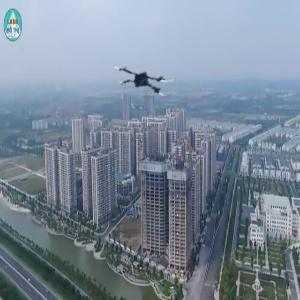drone: (115, 44, 178, 107)
